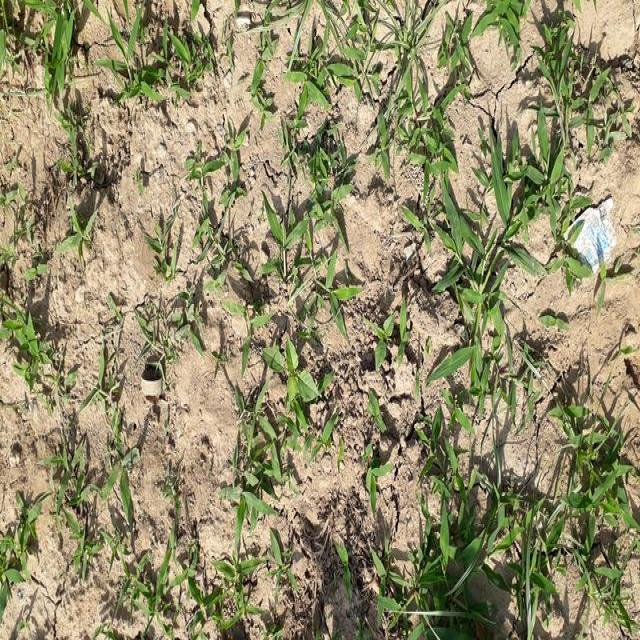weed: (429, 111, 560, 640), (231, 108, 345, 513), (0, 0, 210, 111), (569, 370, 640, 640)
